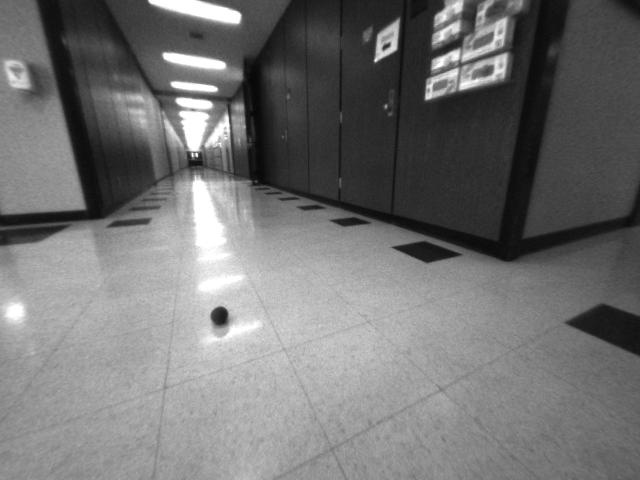dogtoy: (202, 292, 239, 333)
